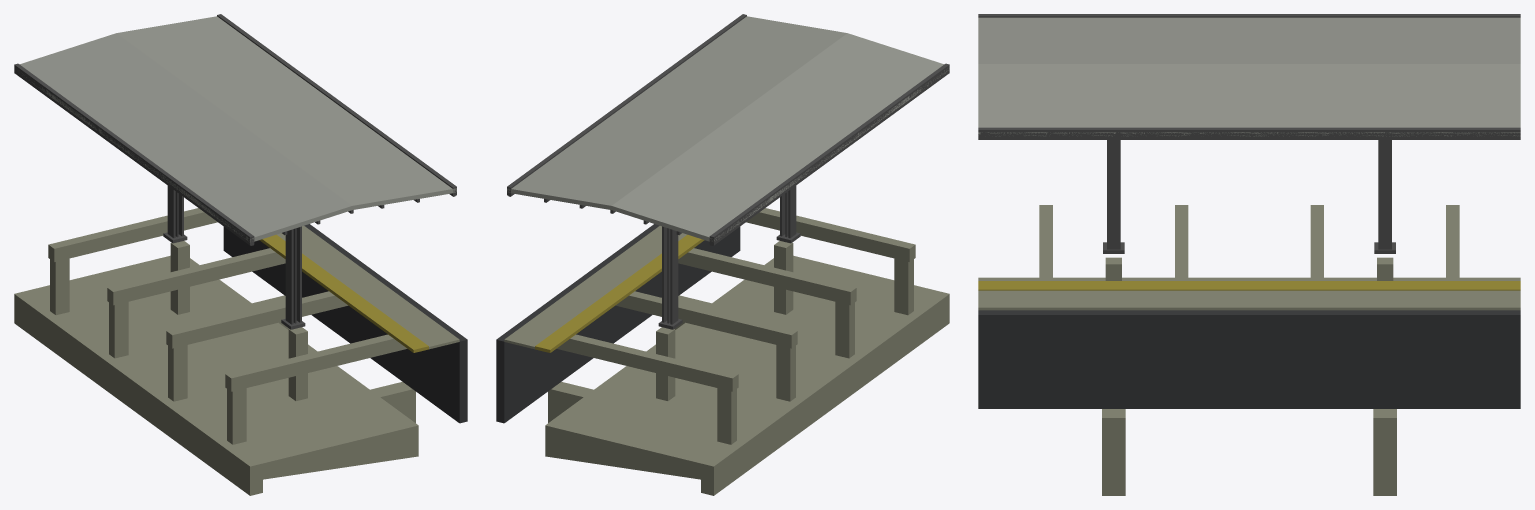
File: platform.fbx
3 renders of one model, left to right at view 1: azimuth 30°, elevation 25°; view 2: azimuth 150°, elevation 25°; view 3: azimuth 270°, elevation 25°, orthographic. The views are drawn at different scales.
Visible parts, largest first — view 1: p451_platform; view 2: p451_platform; view 3: p451_platform.
Part boxes in pixels (x1,y1,x2,y2): p451_platform: (14,14,467,495); p451_platform: (496,14,949,495); p451_platform: (978,14,1520,495).
Size of the model in its own units: 4.3 by 5.96 by 8.
